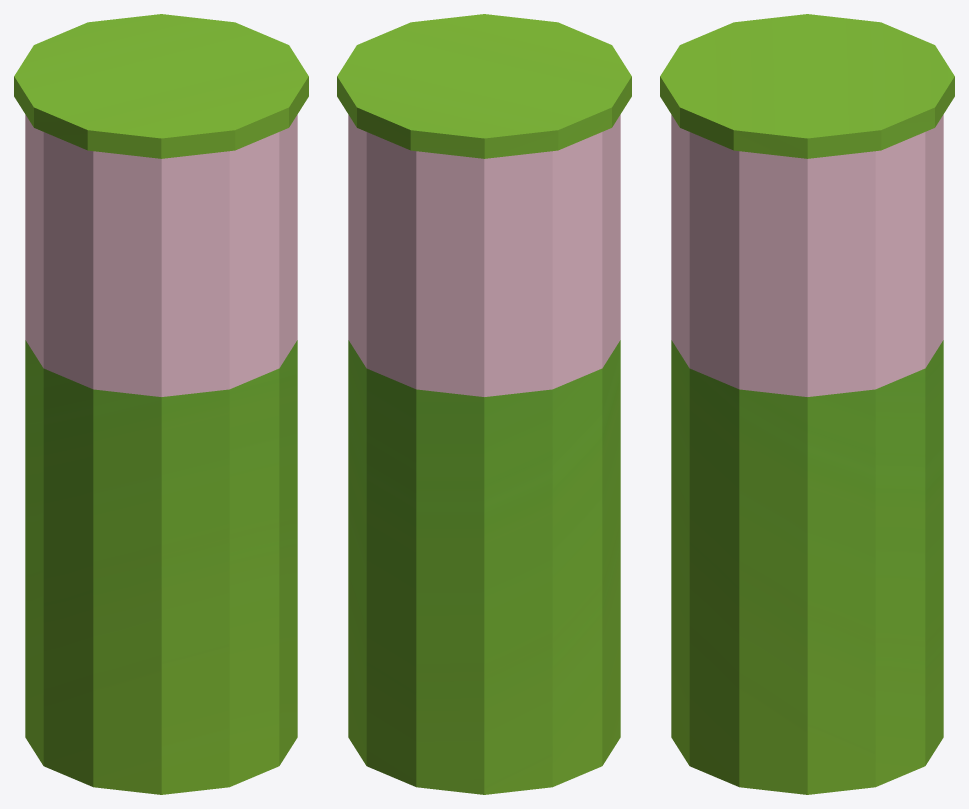
Rendered from Ürün35.fbx.
3 views of the same model, side by side, from view 1: azimuth 30°, elevation 25°; view 2: azimuth 150°, elevation 25°; view 3: azimuth 270°, elevation 25° (orthographic).
Visible parts, largest first — view 1: pCylinder23; view 2: pCylinder23; view 3: pCylinder23.
Part boxes in pixels (x1,y1,x2,y2): pCylinder23: (14,14,308,794); pCylinder23: (337,14,631,794); pCylinder23: (660,14,954,794).
Size of the model in its own units: 11.6 by 28.73 by 11.6.
